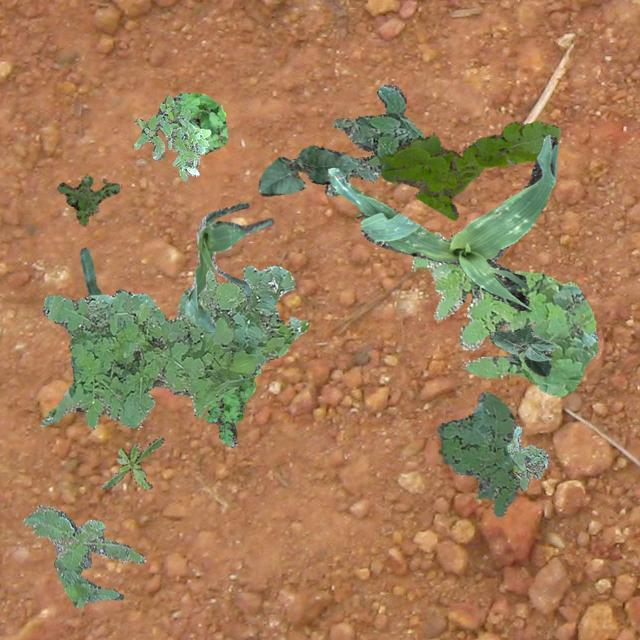crop: (326, 134, 556, 310), (184, 202, 272, 331), (70, 246, 122, 378), (258, 144, 358, 196), (488, 326, 556, 376)
weed: (40, 264, 308, 428), (410, 230, 596, 396), (378, 120, 560, 218), (22, 503, 144, 608), (324, 84, 424, 195), (436, 391, 518, 516), (133, 94, 210, 180), (203, 366, 260, 446), (162, 92, 228, 154), (100, 434, 162, 488), (56, 173, 118, 224), (506, 424, 548, 490)
